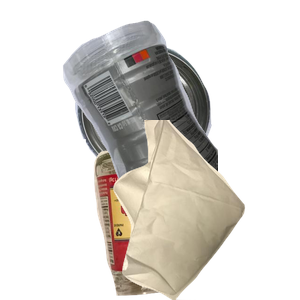glass: (91, 142, 260, 300)
metal: (73, 42, 277, 212)
plastic: (60, 18, 300, 198)
trash: (111, 120, 300, 300)
